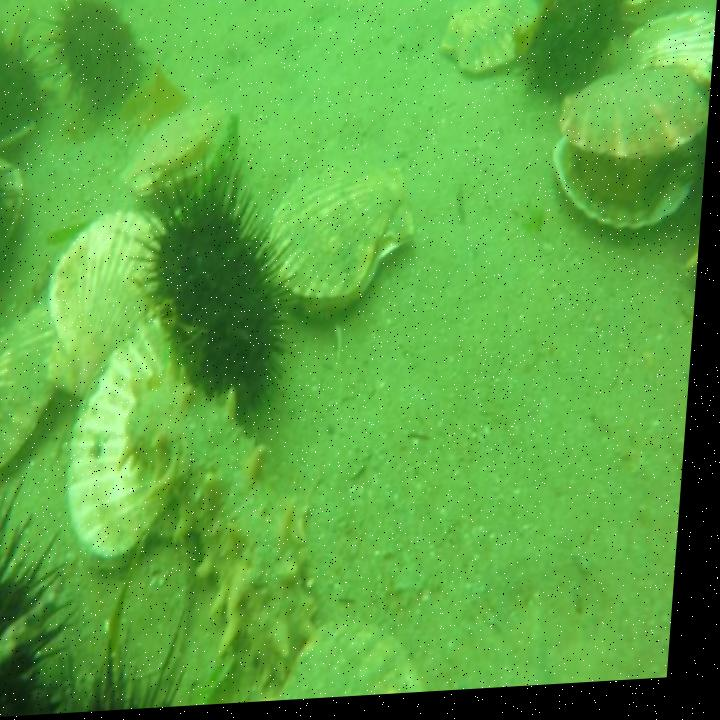echinus: (175, 225, 304, 419), (138, 162, 261, 357), (0, 497, 92, 720), (519, 0, 647, 104), (0, 19, 53, 153), (77, 15, 142, 117), (51, 0, 116, 98)
holothurian: (116, 358, 346, 695)
scallop: (66, 313, 202, 579), (548, 63, 713, 249), (261, 159, 425, 328), (45, 212, 175, 402), (285, 611, 444, 705), (0, 305, 77, 494), (121, 97, 231, 207), (439, 0, 542, 93), (618, 15, 717, 110)
